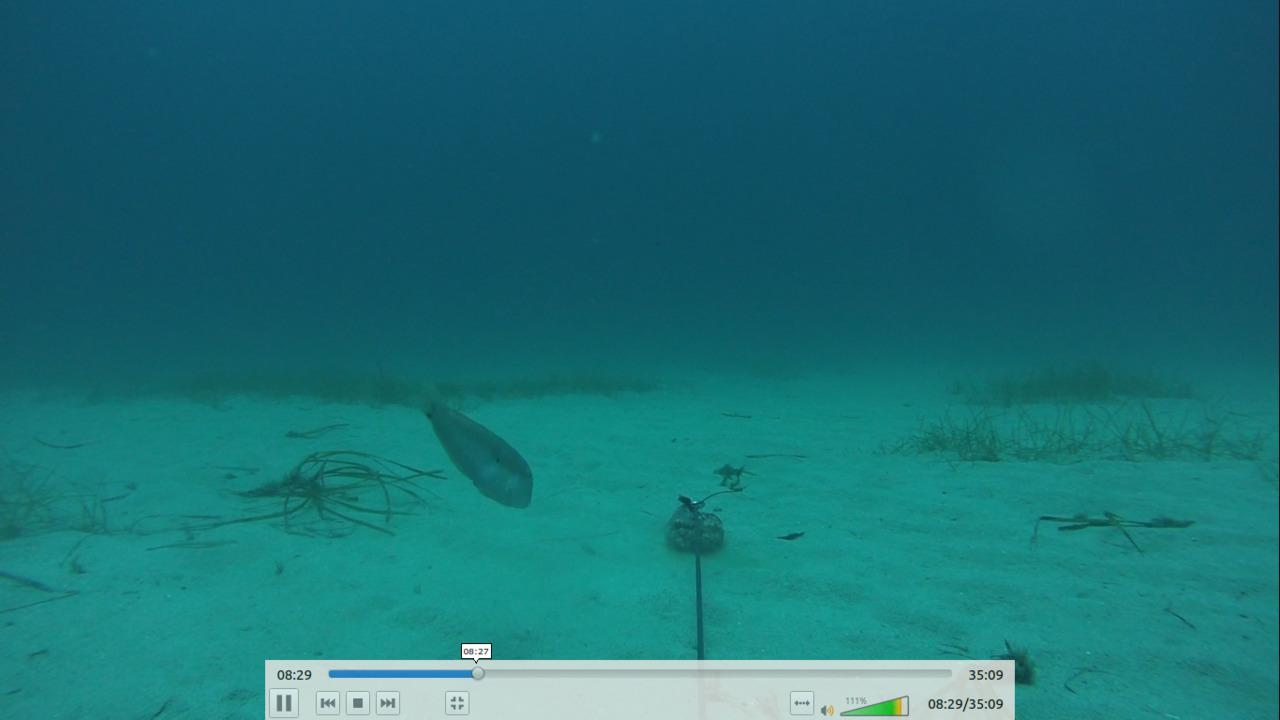raor: (399, 377, 537, 514)
